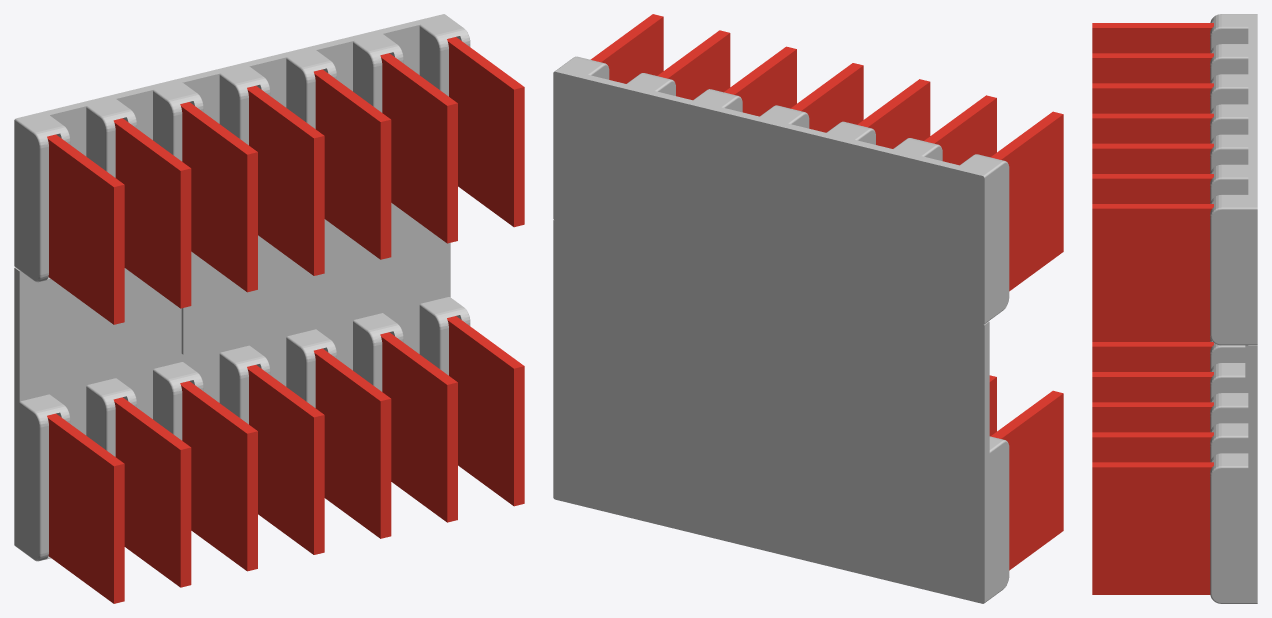
File: jimu_liaoban_new_loaded_14plates.glb
3 views of the same model, side by side, from view 1: azimuth 30°, elevation 25°; view 2: azimuth 150°, elevation 25°; view 3: azimuth 270°, elevation 25° (orthographic). The views are drawn at different scales.
Visible parts, largest first — view 1: tray_00, slot_07_plate_00, slot_00_plate_00, slot_08_plate_00, slot_01_plate_00, slot_04_plate_00, slot_11_plate_00, slot_10_plate_00, slot_03_plate_00, slot_06_plate_00, slot_13_plate_00, slot_02_plate_00 (+3 smaller); view 2: tray_00, slot_00_plate_00, slot_07_plate_00, slot_12_plate_00, slot_09_plate_00, slot_13_plate_00, slot_10_plate_00, slot_08_plate_00, slot_11_plate_00; view 3: tray_00, slot_06_plate_00, slot_13_plate_00, slot_11_plate_00, slot_09_plate_00, slot_10_plate_00, slot_04_plate_00, slot_05_plate_00, slot_07_plate_00, slot_08_plate_00, slot_03_plate_00, slot_02_plate_00 (+2 smaller).
Part boxes in pixels (x1=…): tray_00: x1=14, y1=14, x2=470, y2=561; slot_07_plate_00: x1=47, y1=134, x2=124, y2=324; slot_00_plate_00: x1=47, y1=413, x2=124, y2=603; slot_08_plate_00: x1=113, y1=118, x2=191, y2=308; slot_01_plate_00: x1=113, y1=397, x2=191, y2=587; slot_04_plate_00: x1=314, y1=348, x2=391, y2=538; slot_11_plate_00: x1=314, y1=69, x2=391, y2=259; slot_10_plate_00: x1=247, y1=85, x2=324, y2=275; slot_03_plate_00: x1=247, y1=365, x2=324, y2=554; slot_06_plate_00: x1=447, y1=316, x2=524, y2=506; slot_13_plate_00: x1=447, y1=37, x2=524, y2=227; slot_02_plate_00: x1=180, y1=381, x2=257, y2=571; tray_00: x1=553, y1=56, x2=1009, y2=603; slot_00_plate_00: x1=990, y1=390, x2=1063, y2=570; slot_07_plate_00: x1=991, y1=111, x2=1063, y2=291; slot_12_plate_00: x1=657, y1=30, x2=730, y2=100; slot_09_plate_00: x1=857, y1=79, x2=930, y2=148; slot_13_plate_00: x1=590, y1=14, x2=663, y2=83; slot_10_plate_00: x1=790, y1=63, x2=863, y2=132; slot_08_plate_00: x1=924, y1=95, x2=996, y2=165; slot_11_plate_00: x1=724, y1=46, x2=796, y2=116; tray_00: x1=1210, y1=14, x2=1257, y2=603; slot_06_plate_00: x1=1092, y1=462, x2=1213, y2=594; slot_13_plate_00: x1=1092, y1=204, x2=1213, y2=336; slot_11_plate_00: x1=1092, y1=143, x2=1213, y2=173; slot_09_plate_00: x1=1092, y1=83, x2=1213, y2=113; slot_10_plate_00: x1=1092, y1=113, x2=1213, y2=143; slot_04_plate_00: x1=1092, y1=402, x2=1213, y2=432; slot_05_plate_00: x1=1092, y1=432, x2=1213, y2=462; slot_07_plate_00: x1=1092, y1=23, x2=1213, y2=53; slot_08_plate_00: x1=1092, y1=53, x2=1213, y2=83; slot_03_plate_00: x1=1092, y1=372, x2=1213, y2=402; slot_02_plate_00: x1=1092, y1=342, x2=1213, y2=371.
Bounding box in the file's own units: 0.2425 × 0.23 × 0.087.
